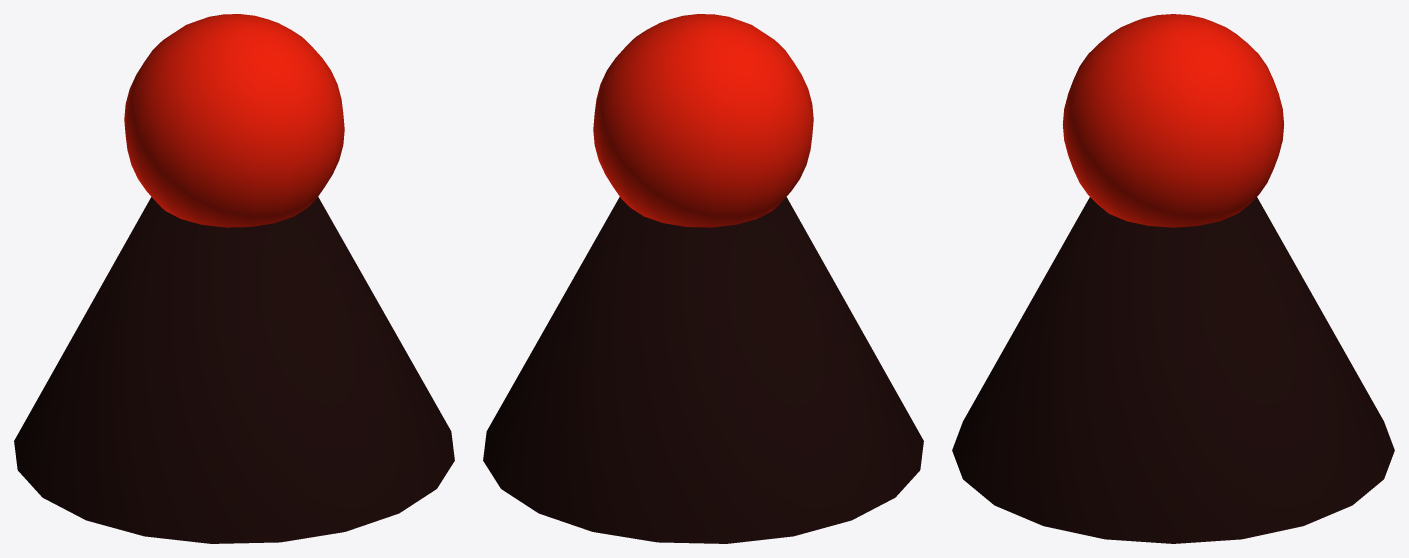
File: Ball.fbx
3 views of the same model, side by side, from view 1: azimuth 30°, elevation 25°; view 2: azimuth 150°, elevation 25°; view 3: azimuth 270°, elevation 25° (orthographic).
Visible parts, largest first — view 1: pSphere2; view 2: pSphere2; view 3: pSphere2.
Part boxes in pixels (left/top/right/bottom): pSphere2: left=14, top=14, right=454, bottom=543; pSphere2: left=483, top=14, right=923, bottom=543; pSphere2: left=952, top=14, right=1394, bottom=543.
Bounding box in the file's own units: 0.4 × 0.4247 × 0.4.
1 material, 1 textured.
